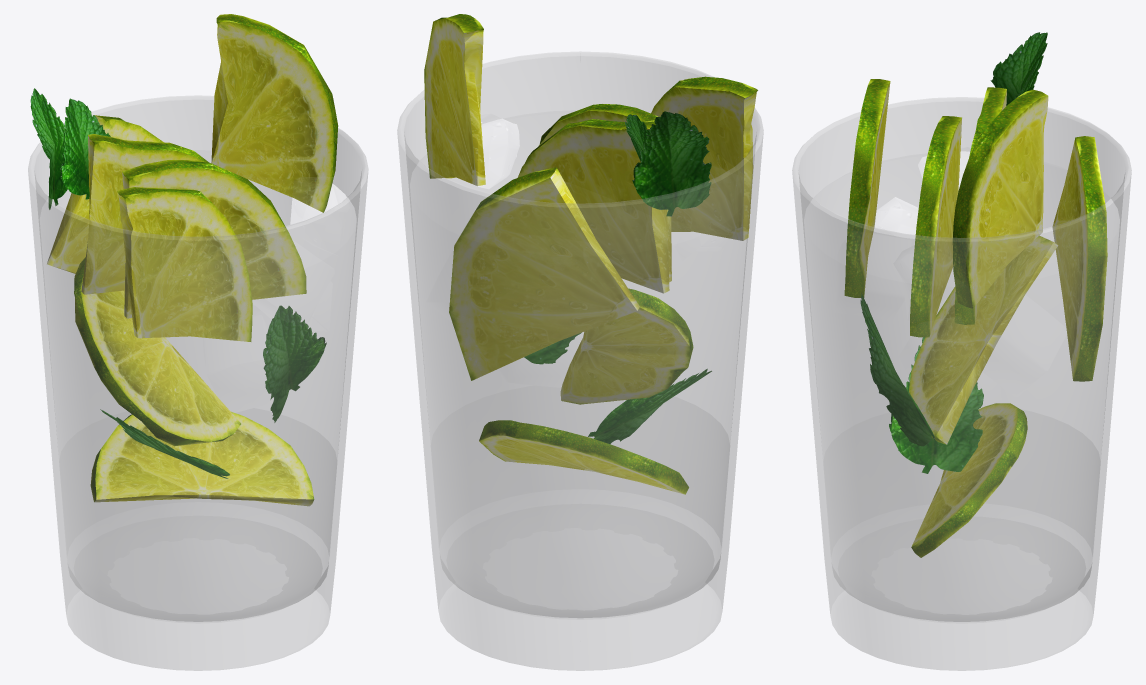
File: Lemon_Reduce.fbx
3 views of the same model, side by side, from view 1: azimuth 30°, elevation 25°; view 2: azimuth 150°, elevation 25°; view 3: azimuth 270°, elevation 25° (orthographic). The views are drawn at different scales.
Visible parts, largest first — view 1: archmodels76_021_06, archmodels76_021_07, archmodels76_021_02; view 2: archmodels76_021_06, archmodels76_021_07, archmodels76_021_02; view 3: archmodels76_021_06, archmodels76_021_07, archmodels76_021_02.
Part boxes in pixels (x1=…): archmodels76_021_06: x1=28, y1=95, x2=368, y2=670; archmodels76_021_07: x1=47, y1=14, x2=338, y2=506; archmodels76_021_02: x1=30, y1=88, x2=326, y2=478; archmodels76_021_06: x1=397, y1=51, x2=763, y2=670; archmodels76_021_07: x1=424, y1=14, x2=757, y2=494; archmodels76_021_02: x1=524, y1=111, x2=711, y2=443; archmodels76_021_06: x1=792, y1=97, x2=1131, y2=670; archmodels76_021_07: x1=844, y1=79, x2=1107, y2=557; archmodels76_021_02: x1=860, y1=32, x2=1047, y2=473.
Bounding box in the file's own units: 8.14 × 14.26 × 7.91.
